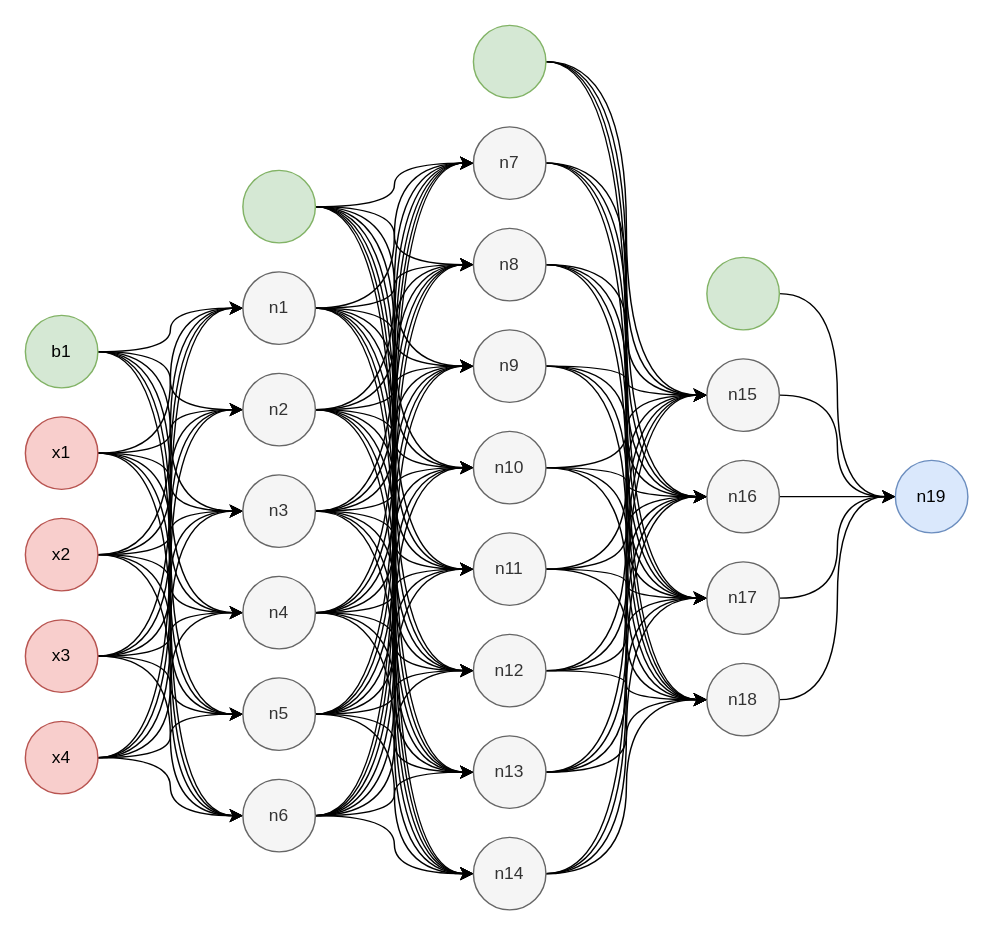
This 993x935 diagram has some shape labels left out. The centre of each missing label's shape, as x and y in pixels:
"b2" goes at [278,206].
"b3" goes at [509,61].
"b4" goes at [742,293].
